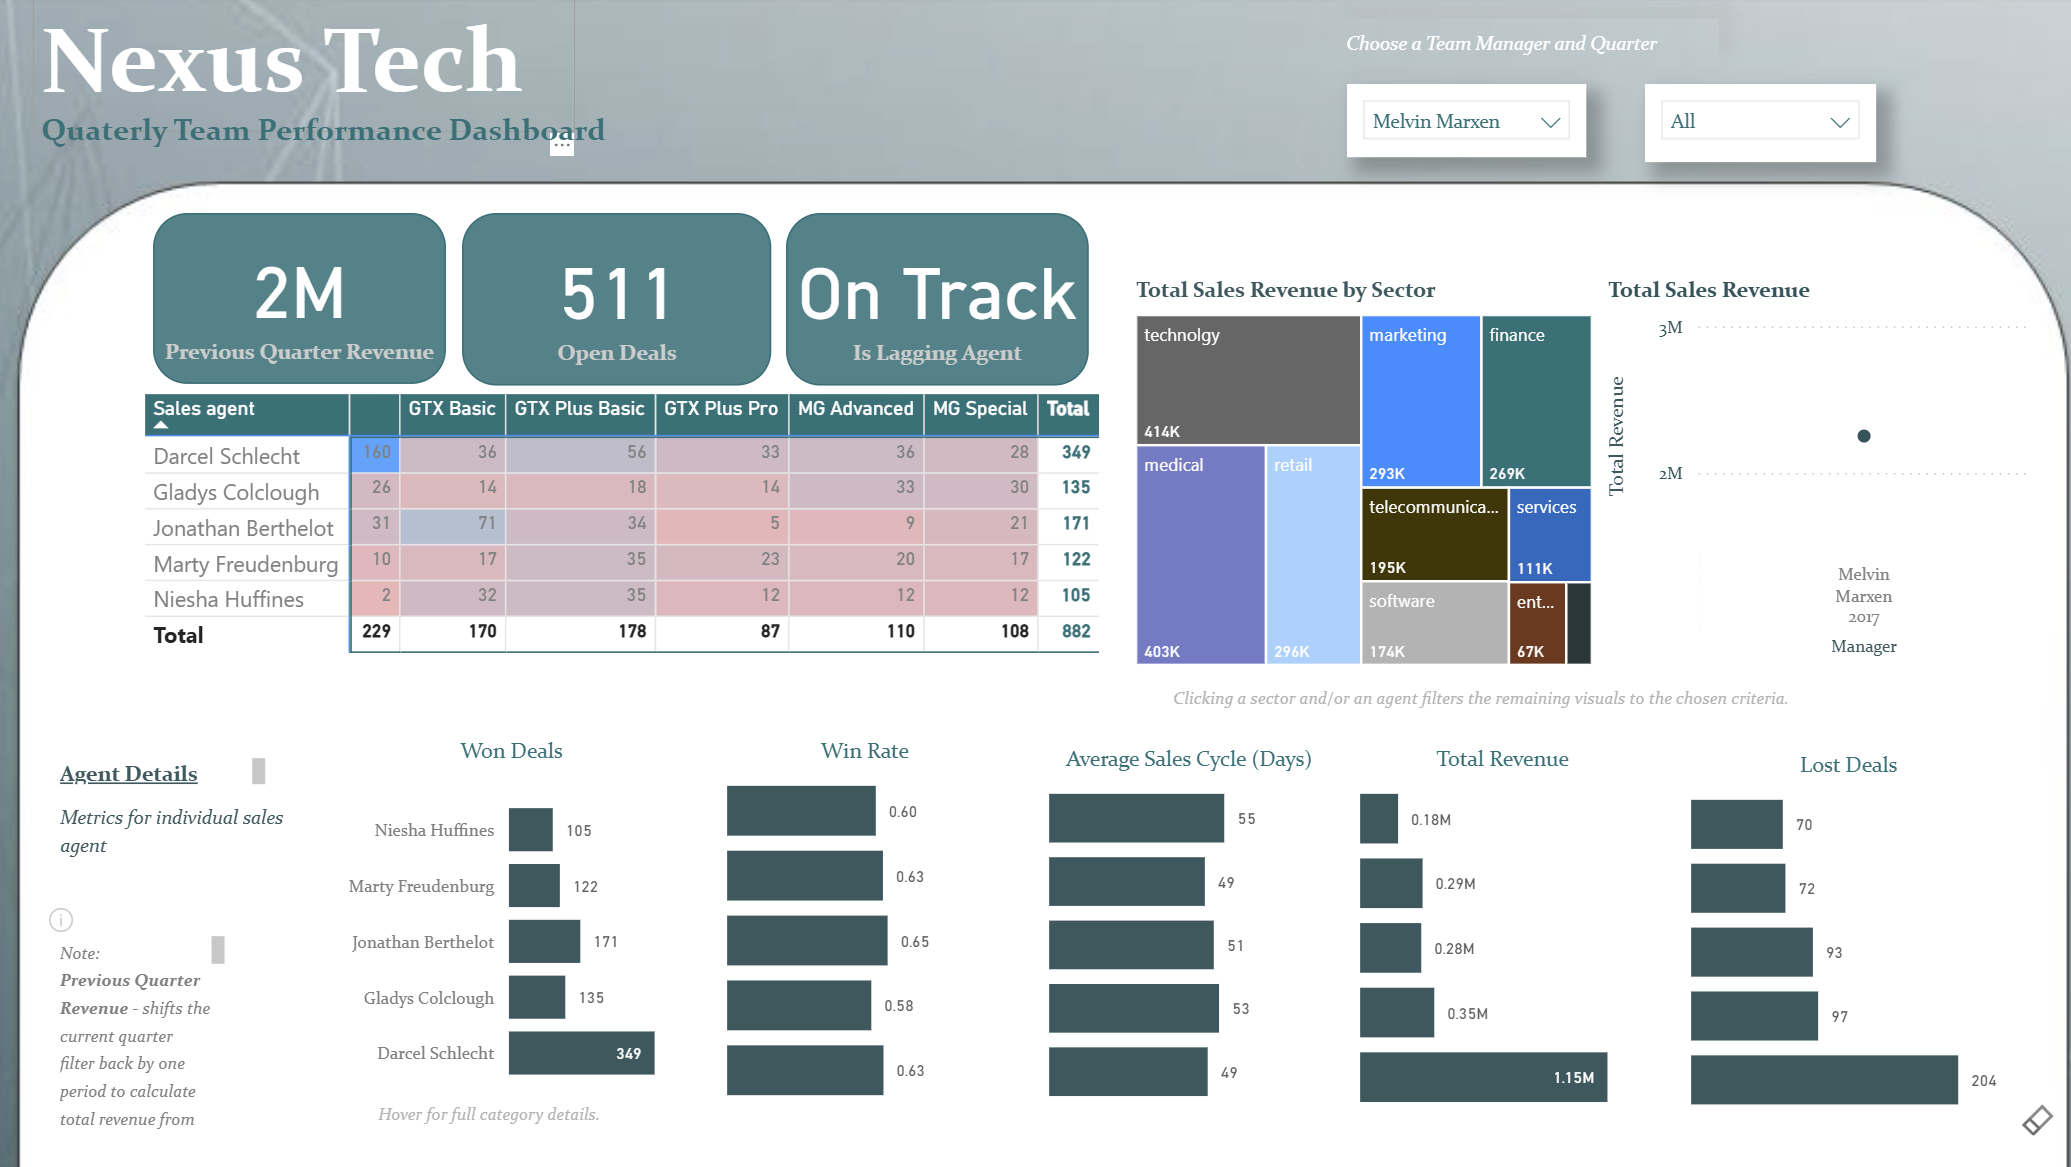

Layout of this report page (visuals, bound fields, positions):
{"tool":"powerbi","page":{"name":"Page 1 - Team Performance ","canvas":[1280,720],"ordinal":1},"visuals":[{"type":"clusteredBarChart","title":"Won Deals ","fields":{"Category":["sales_teams.Sales agent"],"Y":["Measure table.Won Deals"]},"box":[200.6,454.8,229.3,227],"z":0},{"type":"clusteredBarChart","title":"Win Rate ","fields":{"Category":["sales_teams.Sales agent"],"Y":["Measure table.Win Rate"]},"box":[443.1,454.8,179.3,226.3],"z":1000},{"type":"clusteredBarChart","title":"Average Sales Cycle (Days)","fields":{"Category":["sales_teams.Sales agent"],"Y":["Measure table.Avg Sales Cycle (Days)"]},"box":[640.7,459.2,182.2,221.9],"z":2000},{"type":"clusteredBarChart","title":"Total Revenue ","fields":{"Category":["sales_teams.Sales agent"],"Y":["Measure table.Total Revenue"]},"box":[831.8,459.2,185.2,225.6],"z":3000},{"type":"clusteredBarChart","title":"Lost Deals ","fields":{"Category":["sales_teams.Sales agent"],"Y":["Measure table.Lost Deals"]},"box":[1035.3,462.9,203.5,223.4],"z":4000},{"type":"textbox","box":[33.2,462.6,136.4,26.4],"z":5000},{"type":"textbox","box":[33.2,489,148.1,64.5],"z":6000},{"type":"treemap","title":"Total Sales Revenue by Sector","fields":{"Group":["accounts.sector"],"Values":["Measure table.Total Revenue"]},"box":[694.2,171.4,290,243.9],"z":7000},{"type":"slicer","title":"Choose a Team Manager","fields":{"Values":["sales_teams.Manager"]},"box":[828.8,53.6,147,44.8],"z":8000},{"type":"slicer","fields":{"Values":["Calendar.Quarter"]},"box":[1011.8,53.6,141.8,47.8],"z":9000},{"type":"pivotTable","fields":{"Rows":["sales_teams.Sales agent"],"Columns":["products.product"],"Values":["Measure table.Won Deal Count"]},"box":[85.4,239,599.6,190.4],"z":10000},{"type":"card","fields":{"Values":["Measure table.Revenue Prior Quarter"]},"box":[95.2,132.7,180,105.1],"z":11000},{"type":"card","fields":{"Values":["Measure table.Open Deals"]},"box":[285.1,132.7,190.4,106.3],"z":12000},{"type":"textbox","box":[21.5,0,333.1,82.6],"z":13000},{"type":"textbox","box":[21.5,65.3,393.4,34.7],"z":14000},{"type":"textbox","box":[823.1,13.2,233.9,28.1],"z":15000},{"type":"textbox","box":[33.2,571.9,110.6,129.6],"z":16000},{"type":"actionButton","box":[21.3,549.6,44.8,34.5],"z":17000},{"type":"textbox","box":[716.9,415.3,446,60.8],"z":18000},{"type":"textbox","box":[228.5,670.9,173.2,33.2],"z":19000},{"type":"actionButton","box":[1238.9,673.1,27.9,33.1],"z":20000},{"type":"card","fields":{"Values":["Measure table.Is Lagging Agent"]},"box":[484.1,132.7,186.1,106.3],"z":21000},{"type":"lineChart","title":"Total Sales Revenue","fields":{"Y":["Measure Table.Total Revenue"],"Category":["Calendar.Date.Variation.Date Hierarchy.Year","sales_teams.Manager"]},"box":[984.2,171.4,268.5,239],"z":22000}]}

Visuals, with their boxes in screenshot pixels (x1, y1, x2, y2), scaled from the page's 1280x720 canvas onto the 2071x1167 screenshot:
"Won Deals " clusteredBarChart: 325 737 696 1105
"Win Rate " clusteredBarChart: 717 737 1007 1104
"Average Sales Cycle (Days)" clusteredBarChart: 1037 744 1331 1104
"Total Revenue " clusteredBarChart: 1346 744 1645 1110
"Lost Deals " clusteredBarChart: 1675 750 2004 1112
textbox: 54 750 274 793
textbox: 54 793 293 897
"Total Sales Revenue by Sector" treemap: 1123 278 1592 673
"Choose a Team Manager" slicer: 1341 87 1579 159
slicer - Calendar.Quarter: 1637 87 1866 164
pivotTable - sales_teams.Sales agent x products.product: 138 387 1108 696
card - Measure table.Revenue Prior Quarter: 154 215 445 385
card - Measure table.Open Deals: 461 215 769 387
textbox: 35 0 574 134
textbox: 35 106 671 162
textbox: 1332 21 1710 67
textbox: 54 927 233 1137
actionButton: 34 891 107 947
textbox: 1160 673 1882 772
textbox: 370 1087 650 1141
actionButton: 2005 1091 2050 1145
card - Measure table.Is Lagging Agent: 783 215 1084 387
"Total Sales Revenue" lineChart: 1592 278 2027 665
